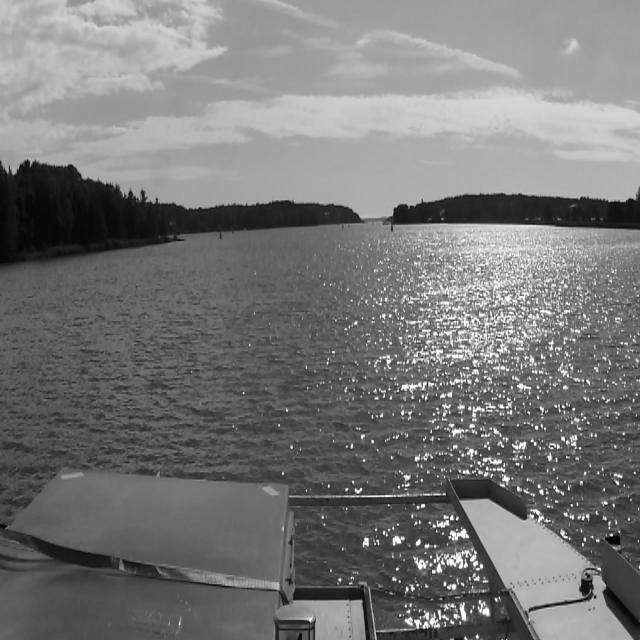buoy: (388, 214, 394, 231), (218, 225, 222, 238), (342, 216, 346, 229), (232, 225, 236, 234), (346, 218, 349, 228)
